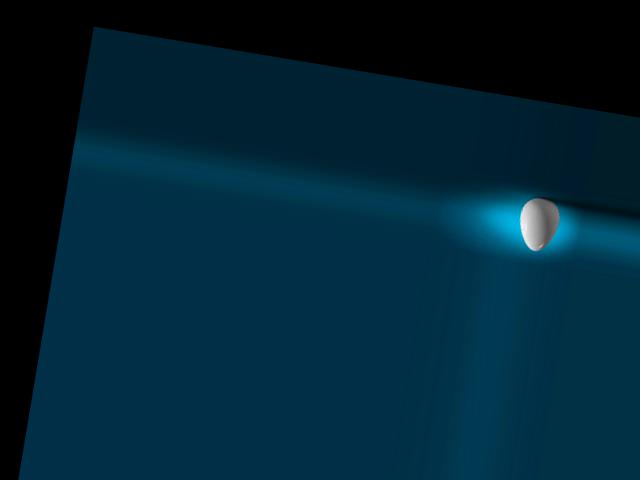egg: (515, 194, 563, 253)
